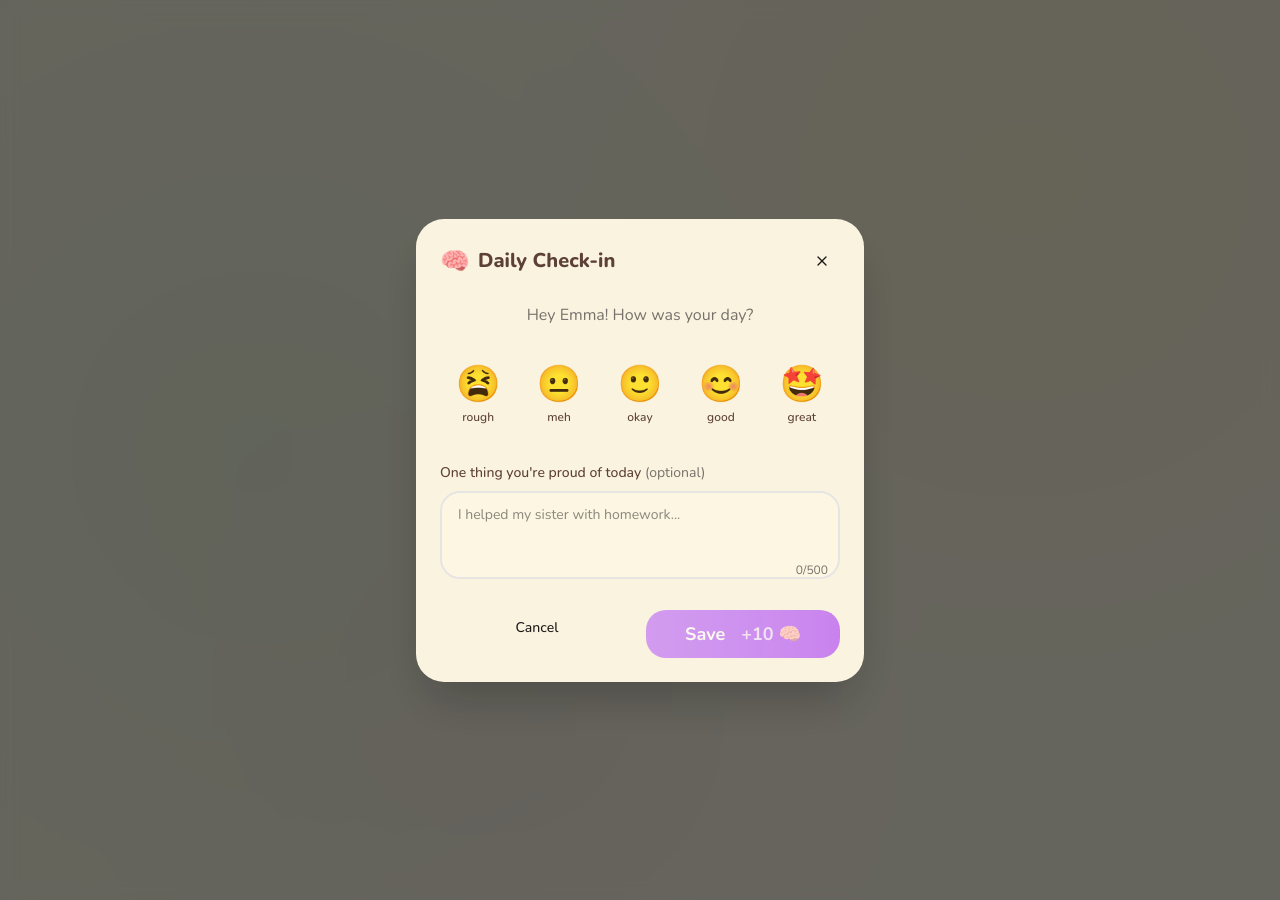
DailyCheckIn › Check-in Form › updates character count on input
The width and height of the screenshot is (1280, 900).
Type "Hello" into the text box with placeholder "I helped my sister with homework...".
click(640, 534); type("Hello")  # box x1=440 y1=490 x2=840 y2=578
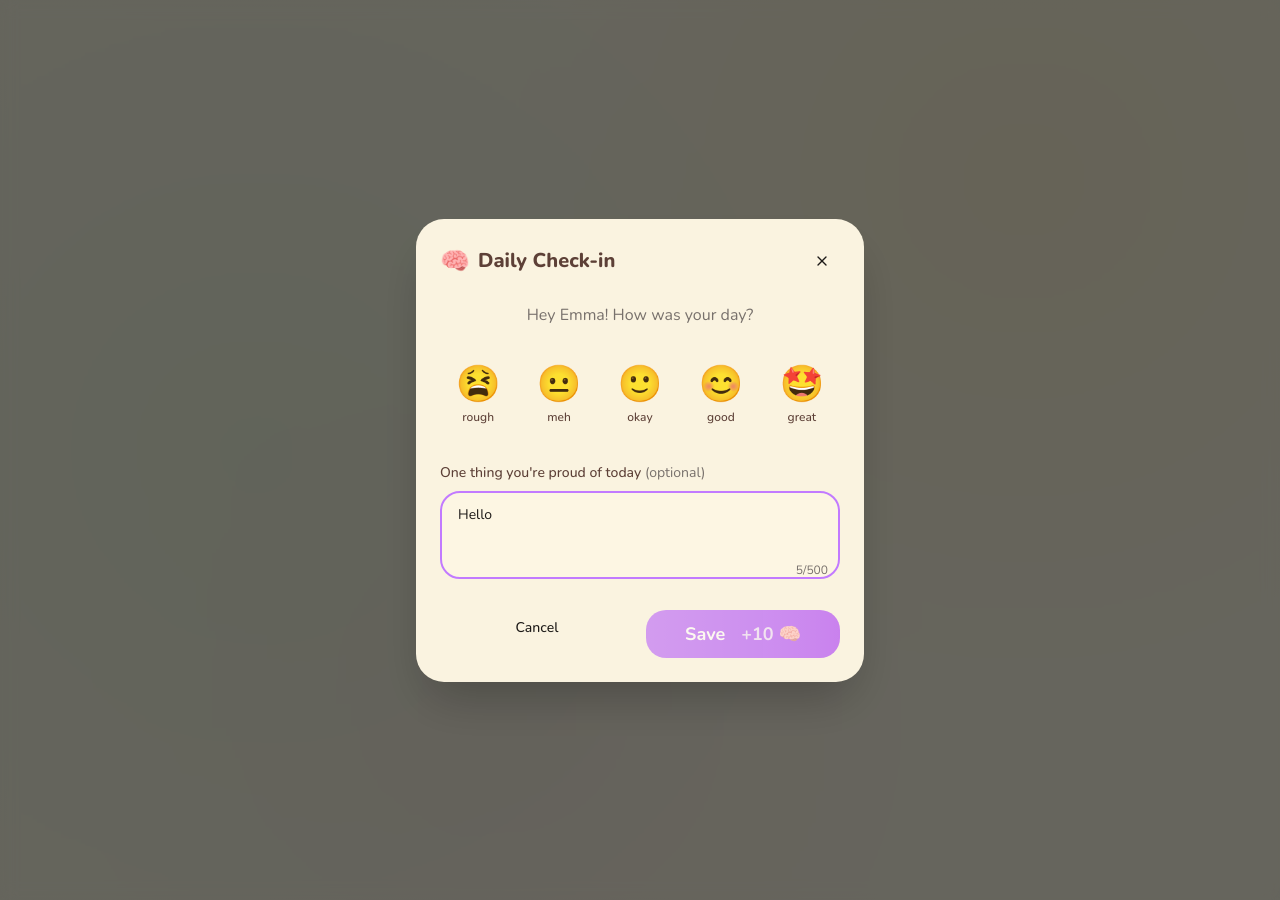
Expected: the text "5/500" is shown, x1=796 y1=562 x2=828 y2=578
